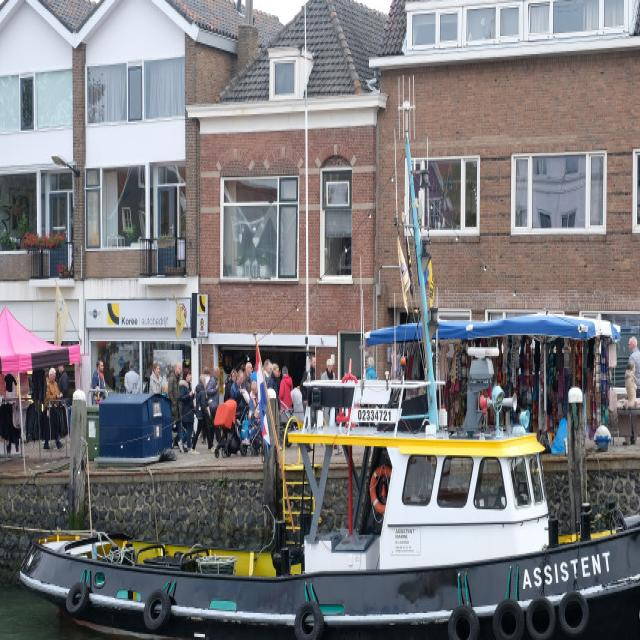tugboat: (16, 327, 640, 640)
